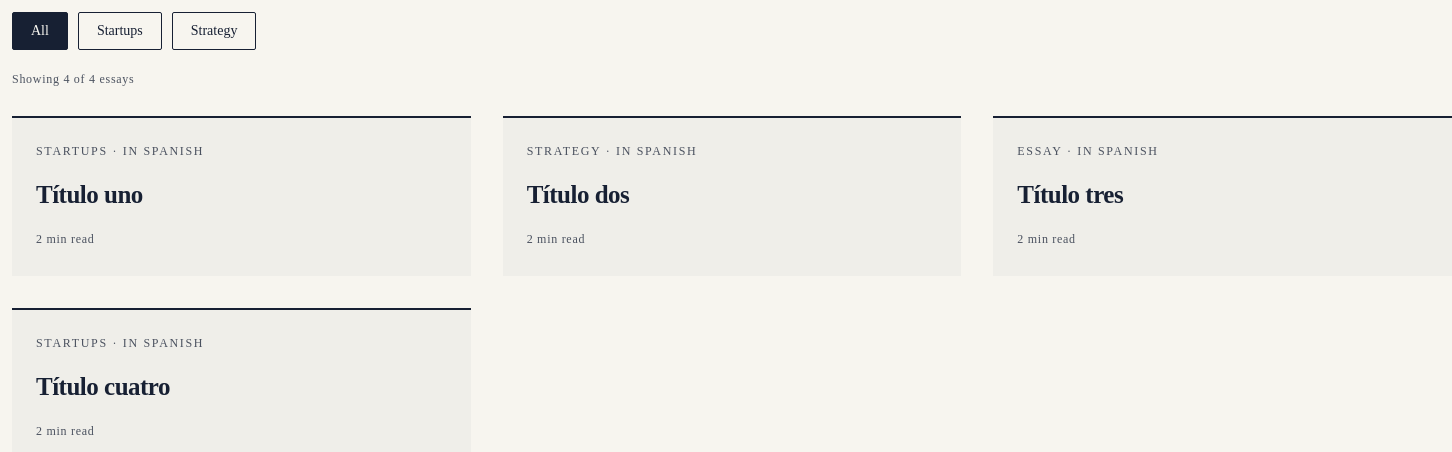
Scenario: EssayBrowser › filters by topic, updates aria-pressed and announces the count
Expected: the message reads "Showing 4 of 4 essays", [12,72,134,86]
What coordinates should you click on to do the following:
click the button "Startups"
I would click on:
 (120, 31)
Its box is [78,12,162,50].
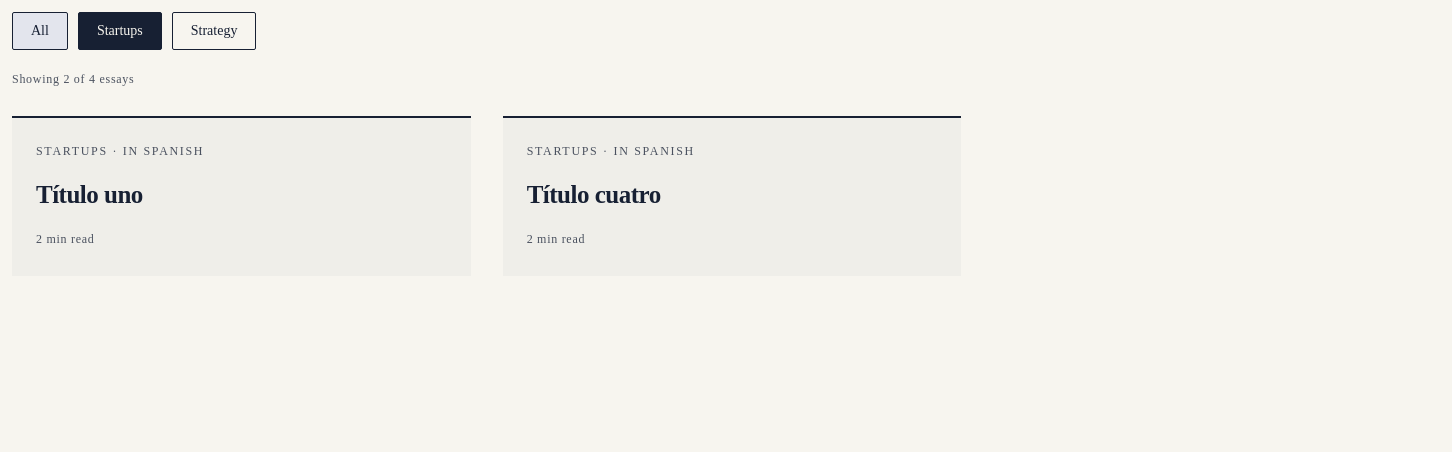
Expected: the link "Título cuatro" is shown, [527,181,661,208]
Result: the message reads "Showing 2 of 4 essays" at [12,72,134,86]
Result: the link "Título dos" is gone
What coordinates should you click on to do the following:
click the button "All"
I would click on:
 (40, 31)
Its box is [12,12,68,50].
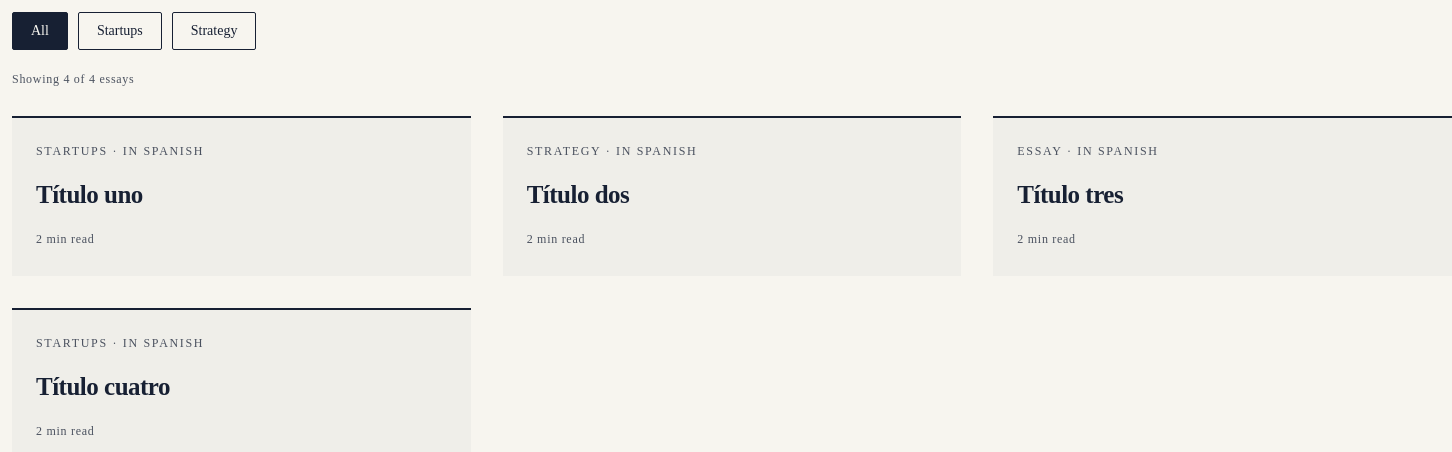
Result: the message reads "Showing 4 of 4 essays" at [12,72,134,86]
